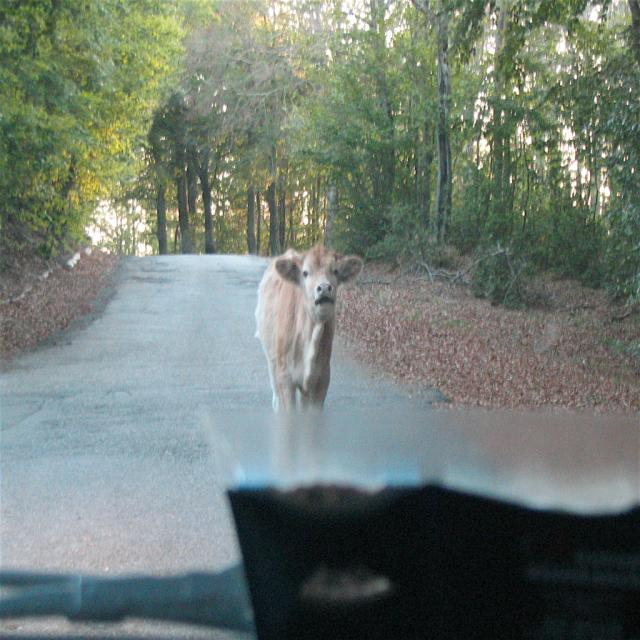cow: (256, 245, 362, 411)
